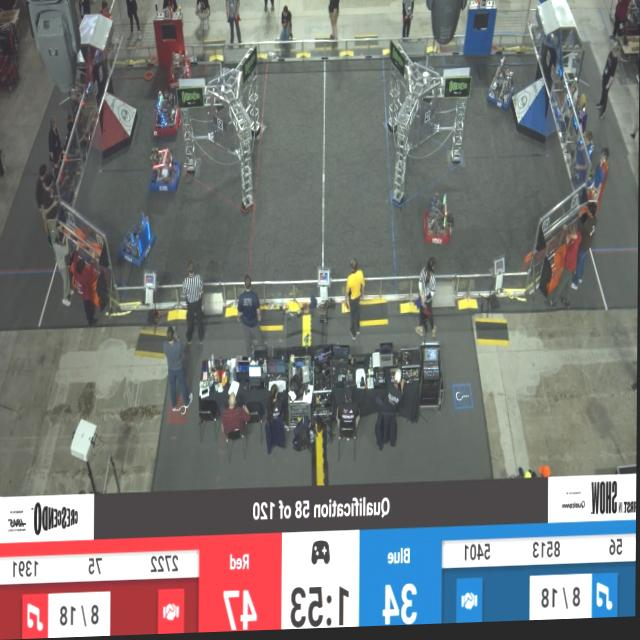Robot: (118, 212, 155, 274), (422, 196, 453, 253), (486, 60, 515, 116), (150, 145, 180, 197), (154, 90, 183, 139), (165, 45, 193, 92)
